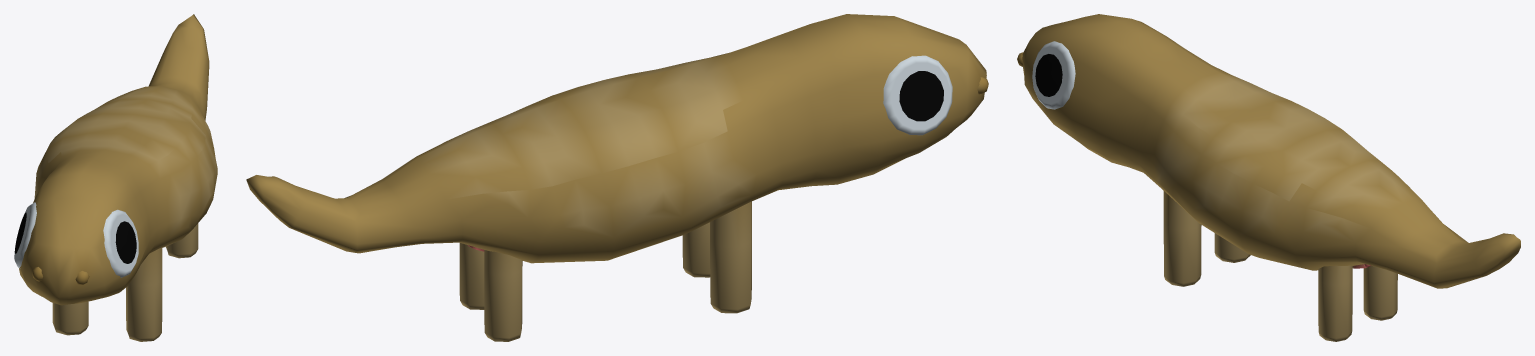
Rendered from MonitorLizard.glb.
3 views of the same model, side by side, from view 1: azimuth 30°, elevation 25°; view 2: azimuth 150°, elevation 25°; view 3: azimuth 270°, elevation 25° (orthographic). The views are drawn at different scales.
Visible parts, largest first — view 1: 102; view 2: 102; view 3: 102.
Boxes of the visible parts, left/top/right/bottom form: 102: left=14, top=14, right=217, bottom=341; 102: left=246, top=14, right=988, bottom=341; 102: left=1017, top=14, right=1520, bottom=341.
Size of the model in its own units: 0.8737 by 0.4457 by 0.9584.
